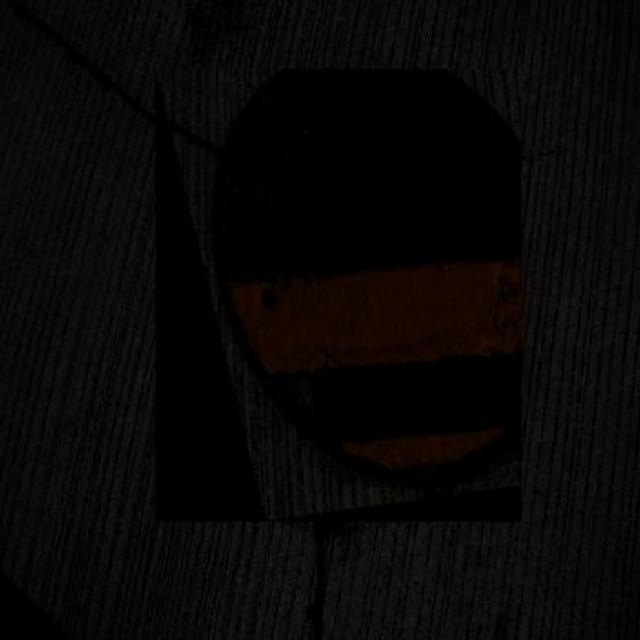Manhole: (156, 69, 522, 522)
